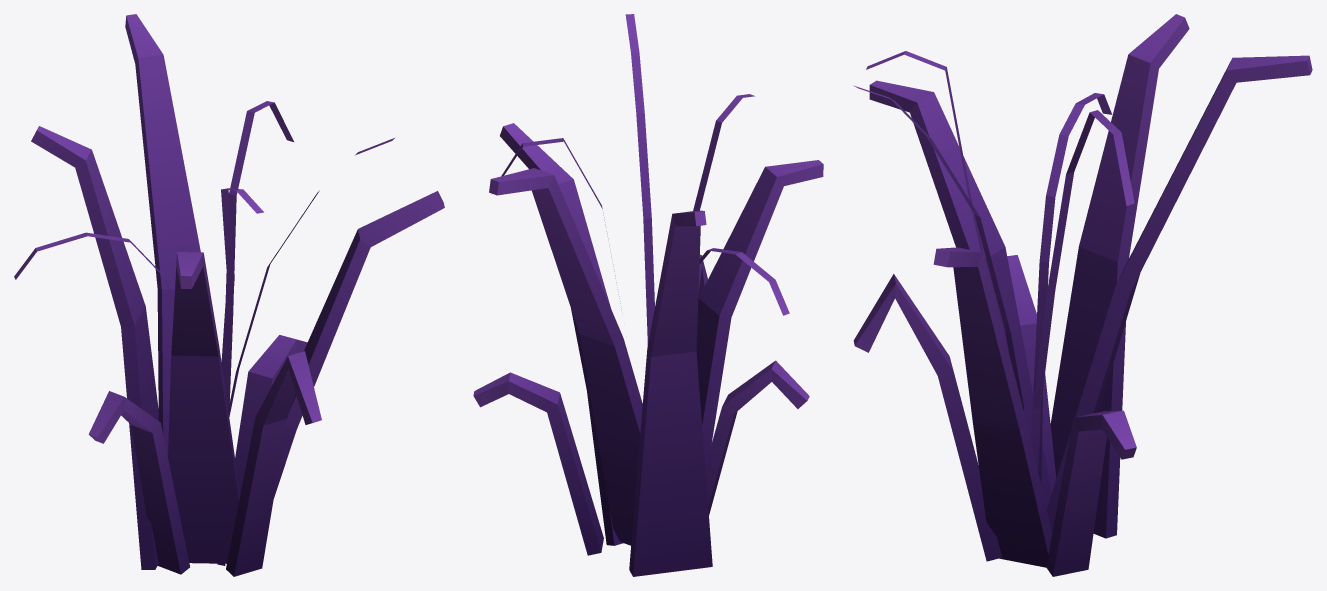
File: MagicGrass2.fbx
3 renders of one model, left to right at view 1: azimuth 30°, elevation 25°; view 2: azimuth 150°, elevation 25°; view 3: azimuth 270°, elevation 25°, orthographic. The views are drawn at different scales.
Visible parts, largest first — view 1: MagicGrass2; view 2: MagicGrass2; view 3: MagicGrass2.
Part boxes in pixels (<box>): MagicGrass2: <box>14,14,444,576</box>; MagicGrass2: <box>473,14,823,576</box>; MagicGrass2: <box>853,14,1312,576</box>.
Size of the model in its own units: 146 by 179 by 142.
